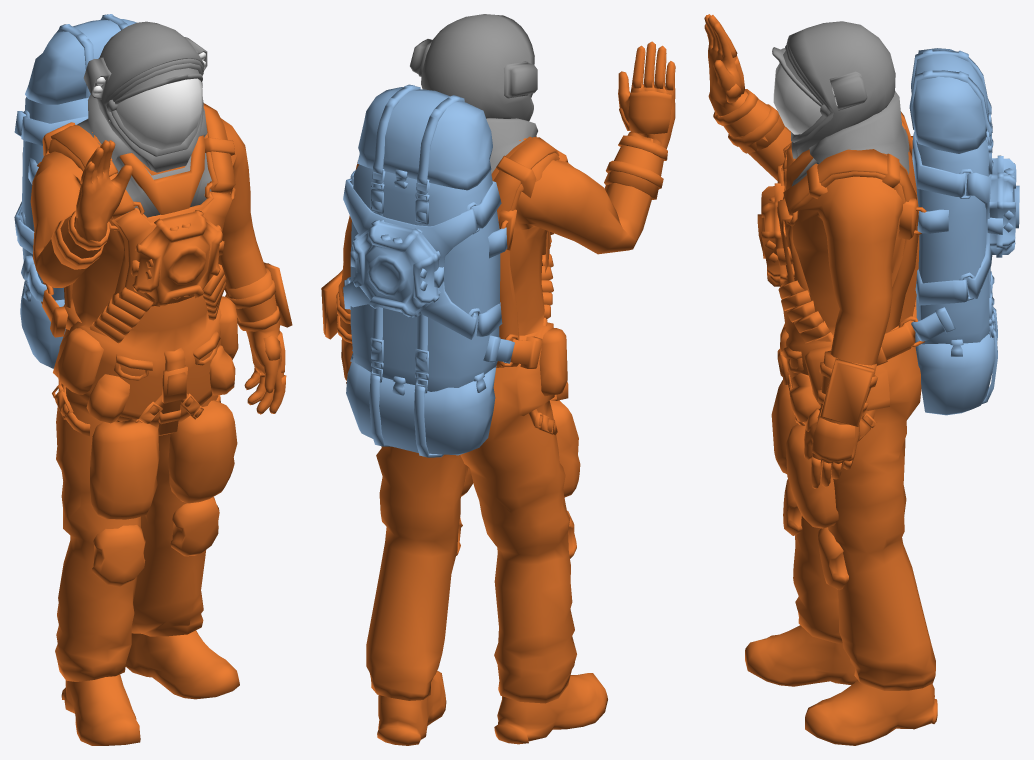
The model's file is astronaut.glb.
3 renders of one model, left to right at view 1: azimuth 30°, elevation 25°; view 2: azimuth 150°, elevation 25°; view 3: azimuth 270°, elevation 25°, orthographic. The views are drawn at different scales.
Visible parts, largest first — view 1: Mesh_0, Mesh_2, Mesh_3, Mesh_1; view 2: Mesh_0, Mesh_2, Mesh_3; view 3: Mesh_0, Mesh_2, Mesh_3, Mesh_1.
Boxes of the visible parts, x1,y1,x2,y2 form: Mesh_0: (30, 103, 292, 745); Mesh_2: (14, 14, 136, 368); Mesh_3: (77, 21, 211, 217); Mesh_1: (116, 78, 202, 149); Mesh_0: (321, 41, 675, 745); Mesh_2: (343, 84, 514, 457); Mesh_3: (410, 14, 537, 173); Mesh_0: (704, 14, 937, 745); Mesh_2: (909, 48, 1019, 415); Mesh_3: (772, 21, 909, 186); Mesh_1: (773, 63, 821, 134).
Bounding box in the file's own units: 17.53 × 41.65 × 17.44.
